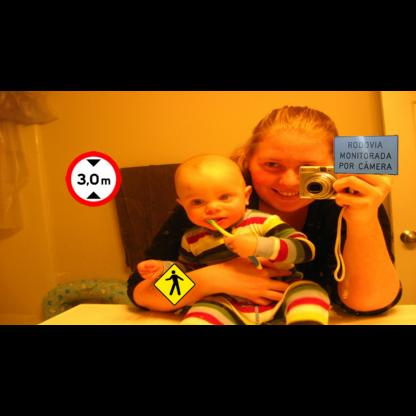A-32a: (153, 263, 196, 306)
I-E: (334, 135, 398, 176)
R-15: (66, 151, 121, 206)
